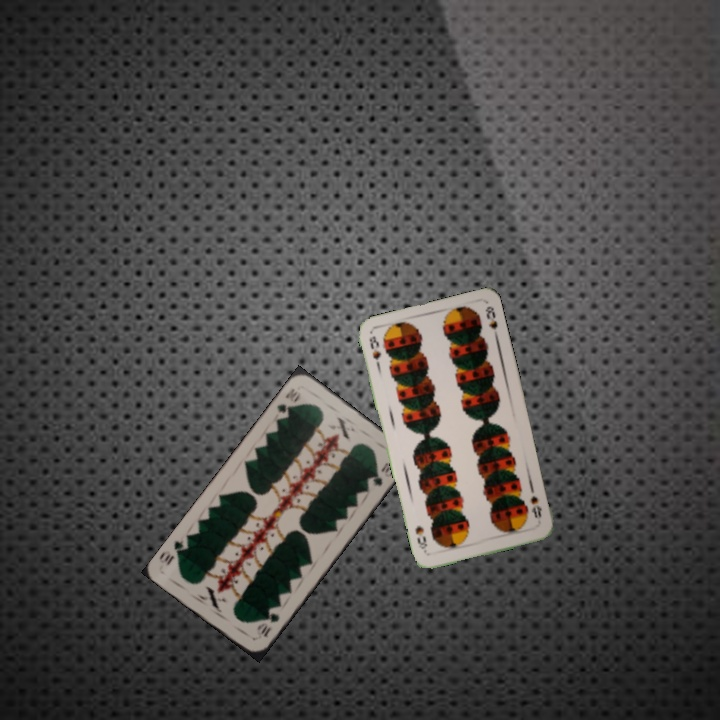G10: (273, 384, 304, 422), (255, 609, 282, 642)
S8: (365, 332, 384, 371), (526, 492, 544, 521)
